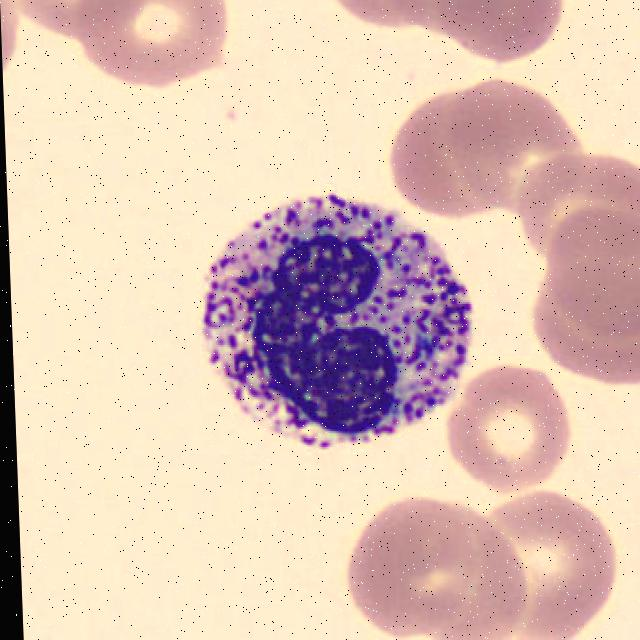neutrophil: (196, 189, 484, 454)
rbc: (478, 495, 640, 640), (421, 479, 558, 640), (349, 500, 464, 640), (75, 0, 234, 89), (520, 270, 640, 384), (510, 148, 640, 252), (451, 364, 564, 478), (543, 209, 640, 336), (455, 75, 549, 198), (381, 98, 484, 200), (435, 0, 572, 66), (10, 0, 117, 55), (399, 0, 484, 39), (333, 0, 410, 36), (0, 0, 25, 59)
